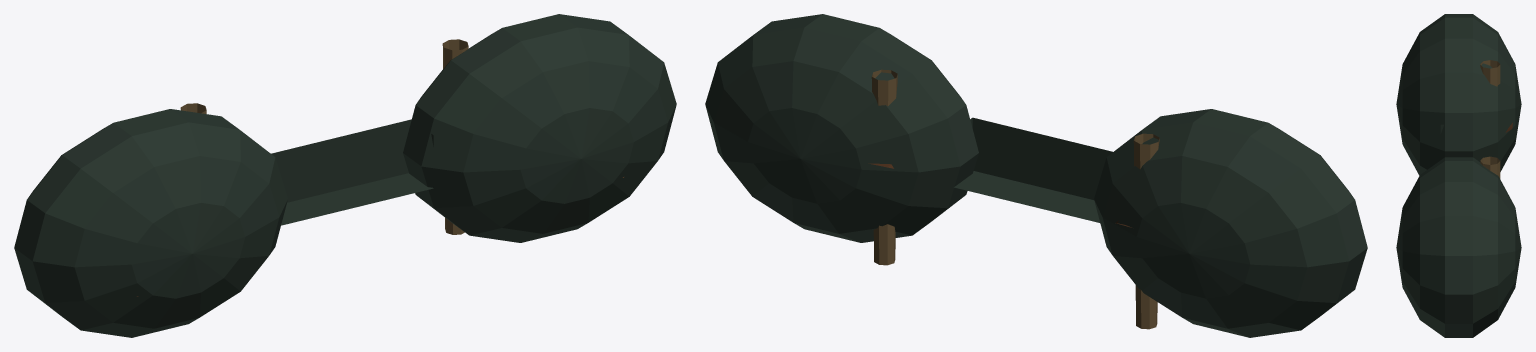
Rendered from shoulder_light.obj.
3 views of the same model, side by side, from view 1: azimuth 30°, elevation 25°; view 2: azimuth 150°, elevation 25°; view 3: azimuth 270°, elevation 25° (orthographic). The views are drawn at different scales.
Visible parts, largest first — view 1: Pad-1, Pad1, CollarBridge, Tie1; view 2: Pad-1, Pad1, CollarBridge, Tie1, Tie-1; view 3: Pad1, Pad-1, Tie-1, Tie1.
Part boxes in pixels (x1,y1,x2,y2): Pad-1: [14, 109, 287, 337]; Pad1: [403, 14, 676, 242]; CollarBridge: [271, 119, 433, 225]; Tie1: [442, 39, 468, 234]; Pad-1: [1094, 109, 1367, 337]; Pad1: [705, 14, 978, 242]; CollarBridge: [954, 117, 1112, 222]; Tie1: [871, 69, 897, 265]; Tie-1: [1133, 133, 1159, 329]; Pad1: [1396, 157, 1521, 337]; Pad-1: [1396, 14, 1521, 175]; Tie-1: [1480, 60, 1500, 86]; Tie1: [1480, 156, 1500, 178].
Bounding box in the file's own units: 3.05 × 0.9162 × 0.68.
